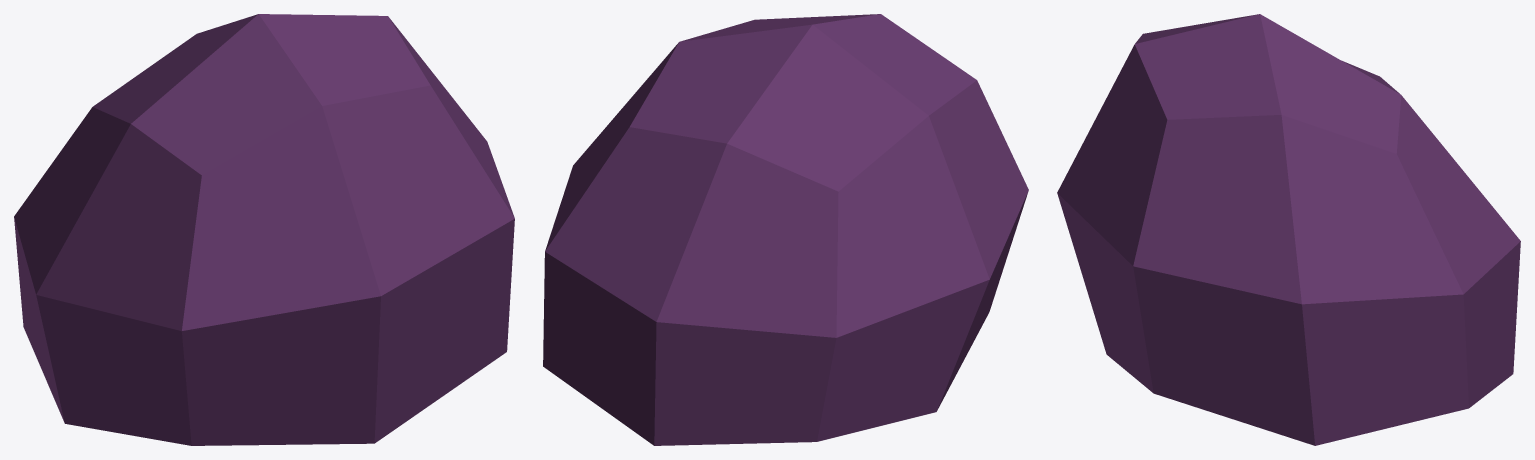
File: Rocks 2.fbx
The picture shows the model from 3 angles, left to right: view 1: azimuth 30°, elevation 25°; view 2: azimuth 150°, elevation 25°; view 3: azimuth 270°, elevation 25°; orthographic projection. The views are drawn at different scales.
Visible parts, largest first — view 1: Cube.005; view 2: Cube.005; view 3: Cube.005.
Part boxes in pixels (bbox=[...]): Cube.005: bbox=[14, 14, 514, 445]; Cube.005: bbox=[543, 14, 1028, 445]; Cube.005: bbox=[1057, 14, 1520, 445].
Bounding box in the file's own units: 631 × 572 × 618.
